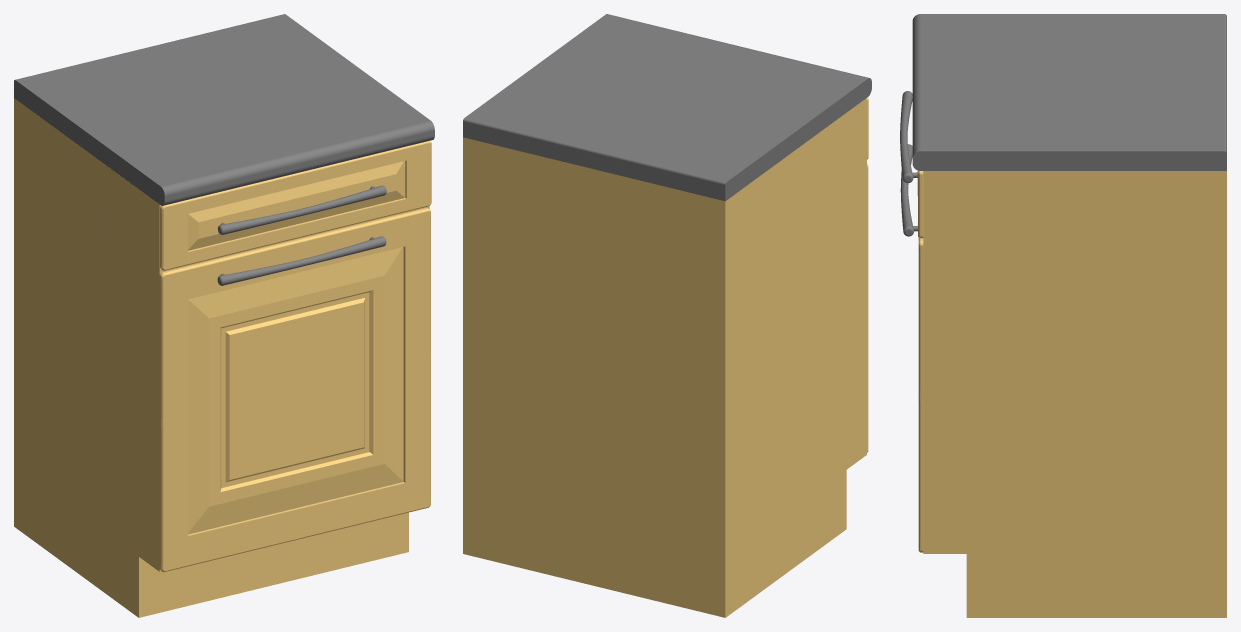
Rendered from Model_Kitchen_Cabinet.fbx.
The picture shows the model from 3 angles, left to right: view 1: azimuth 30°, elevation 25°; view 2: azimuth 150°, elevation 25°; view 3: azimuth 270°, elevation 25°; orthographic projection. The views are drawn at different scales.
Visible parts, largest first — view 1: Front; view 2: Front; view 3: Front.
Boxes of the visible parts, box(x1,y1,x2,y2) form: Front: box(14, 14, 434, 617); Front: box(463, 14, 871, 617); Front: box(900, 14, 1226, 617).
Bounding box in the file's own units: 34.56 × 54.67 × 34.71.
